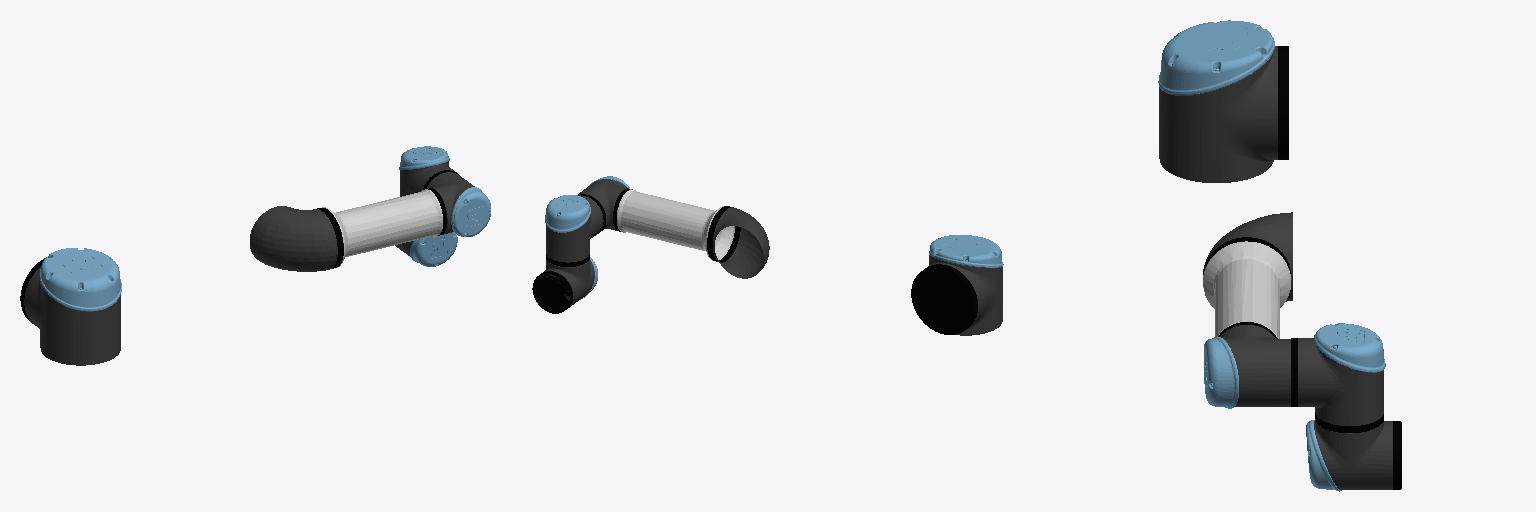
The robot description file, URDF, robot "ur16e":
<?xml version='1.0' encoding='utf-8'?>
<robot name="ur16e">
  
  
  
  <link name="world" />
  <ros2_control name="ur16e" type="system">
    <hardware>
      <plugin>ur_robot_driver/URPositionHardwareInterface</plugin>
      <param name="robot_ip">0.0.0.0</param>
      <param name="script_filename" />
      <param name="output_recipe_filename" />
      <param name="input_recipe_filename" />
      <param name="headless_mode">False</param>
      <param name="reverse_port">50001</param>
      <param name="script_sender_port">50002</param>
      <param name="reverse_ip">0.0.0.0</param>
      <param name="script_command_port">50004</param>
      <param name="trajectory_port">50003</param>
      <param name="tf_prefix" />
      <param name="non_blocking_read">False</param>
      <param name="servoj_gain">2000</param>
      <param name="servoj_lookahead_time">0.03</param>
      <param name="use_tool_communication">False</param>
      <param name="kinematics/hash">calib_1935737212149401527</param>
      <param name="tool_voltage">0</param>
      <param name="tool_parity">0</param>
      <param name="tool_baud_rate">115200</param>
      <param name="tool_stop_bits">1</param>
      <param name="tool_rx_idle_chars">1.5</param>
      <param name="tool_tx_idle_chars">3.5</param>
      <param name="tool_device_name">/tmp/ttyUR</param>
      <param name="tool_tcp_port">54321</param>
      <param name="keep_alive_count">2</param>
    </hardware>
    <joint name="shoulder_pan_joint">
      <command_interface name="position">
        <param name="min">{-2*pi}</param>
        <param name="max">{2*pi}</param>
      </command_interface>
      <command_interface name="velocity">
        <param name="min">-3.15</param>
        <param name="max">3.15</param>
      </command_interface>
      <state_interface name="position">
        
        <param name="initial_value">0.0</param>
      </state_interface>
      <state_interface name="velocity">
        <param name="initial_value">0.0</param>
      </state_interface>
      <state_interface name="effort">
        <param name="initial_value">0.0</param>
      </state_interface>
    </joint>
    <joint name="shoulder_lift_joint">
      <command_interface name="position">
        <param name="min">{-2*pi}</param>
        <param name="max">{2*pi}</param>
      </command_interface>
      <command_interface name="velocity">
        <param name="min">-3.15</param>
        <param name="max">3.15</param>
      </command_interface>
      <state_interface name="position">
        
        <param name="initial_value">-1.57</param>
      </state_interface>
      <state_interface name="velocity">
        <param name="initial_value">0.0</param>
      </state_interface>
      <state_interface name="effort">
        <param name="initial_value">0.0</param>
      </state_interface>
    </joint>
    <joint name="elbow_joint">
      <command_interface name="position">
        <param name="min">{-pi}</param>
        <param name="max">{pi}</param>
      </command_interface>
      <command_interface name="velocity">
        <param name="min">-3.15</param>
        <param name="max">3.15</param>
      </command_interface>
      <state_interface name="position">
        
        <param name="initial_value">0.0</param>
      </state_interface>
      <state_interface name="velocity">
        <param name="initial_value">0.0</param>
      </state_interface>
      <state_interface name="effort">
        <param name="initial_value">0.0</param>
      </state_interface>
    </joint>
    <joint name="wrist_1_joint">
      <command_interface name="position">
        <param name="min">{-2*pi}</param>
        <param name="max">{2*pi}</param>
      </command_interface>
      <command_interface name="velocity">
        <param name="min">-3.2</param>
        <param name="max">3.2</param>
      </command_interface>
      <state_interface name="position">
        
        <param name="initial_value">-1.57</param>
      </state_interface>
      <state_interface name="velocity">
        <param name="initial_value">0.0</param>
      </state_interface>
      <state_interface name="effort">
        <param name="initial_value">0.0</param>
      </state_interface>
    </joint>
    <joint name="wrist_2_joint">
      <command_interface name="position">
        <param name="min">{-2*pi}</param>
        <param name="max">{2*pi}</param>
      </command_interface>
      <command_interface name="velocity">
        <param name="min">-3.2</param>
        <param name="max">3.2</param>
      </command_interface>
      <state_interface name="position">
        
        <param name="initial_value">0.0</param>
      </state_interface>
      <state_interface name="velocity">
        <param name="initial_value">0.0</param>
      </state_interface>
      <state_interface name="effort">
        <param name="initial_value">0.0</param>
      </state_interface>
    </joint>
    <joint name="wrist_3_joint">
      <command_interface name="position">
        <param name="min">{-2*pi}</param>
        <param name="max">{2*pi}</param>
      </command_interface>
      <command_interface name="velocity">
        <param name="min">-3.2</param>
        <param name="max">3.2</param>
      </command_interface>
      <state_interface name="position">
        
        <param name="initial_value">0.0</param>
      </state_interface>
      <state_interface name="velocity">
        <param name="initial_value">0.0</param>
      </state_interface>
      <state_interface name="effort">
        <param name="initial_value">0.0</param>
      </state_interface>
    </joint>
    <sensor name="tcp_fts_sensor">
      <state_interface name="force.x" />
      <state_interface name="force.y" />
      <state_interface name="force.z" />
      <state_interface name="torque.x" />
      <state_interface name="torque.y" />
      <state_interface name="torque.z" />
    </sensor>
    
    <gpio name="speed_scaling">
      <state_interface name="speed_scaling_factor" />
      <param name="initial_speed_scaling_factor">1</param>
      <command_interface name="target_speed_fraction_cmd" />
      <command_interface name="target_speed_fraction_async_success" />
    </gpio>
    <gpio name="gpio">
      <command_interface name="standard_digital_output_cmd_0" />
      <command_interface name="standard_digital_output_cmd_1" />
      <command_interface name="standard_digital_output_cmd_2" />
      <command_interface name="standard_digital_output_cmd_3" />
      <command_interface name="standard_digital_output_cmd_4" />
      <command_interface name="standard_digital_output_cmd_5" />
      <command_interface name="standard_digital_output_cmd_6" />
      <command_interface name="standard_digital_output_cmd_7" />
      <command_interface name="standard_digital_output_cmd_8" />
      <command_interface name="standard_digital_output_cmd_9" />
      <command_interface name="standard_digital_output_cmd_10" />
      <command_interface name="standard_digital_output_cmd_11" />
      <command_interface name="standard_digital_output_cmd_12" />
      <command_interface name="standard_digital_output_cmd_13" />
      <command_interface name="standard_digital_output_cmd_14" />
      <command_interface name="standard_digital_output_cmd_15" />
      <command_interface name="standard_digital_output_cmd_16" />
      <command_interface name="standard_digital_output_cmd_17" />
      <command_interface name="standard_analog_output_cmd_0" />
      <command_interface name="standard_analog_output_cmd_1" />
      <command_interface name="tool_voltage_cmd" />
      <command_interface name="io_async_success" />
      <state_interface name="digital_output_0" />
      <state_interface name="digital_output_1" />
      <state_interface name="digital_output_2" />
      <state_interface name="digital_output_3" />
      <state_interface name="digital_output_4" />
      <state_interface name="digital_output_5" />
      <state_interface name="digital_output_6" />
      <state_interface name="digital_output_7" />
      <state_interface name="digital_output_8" />
      <state_interface name="digital_output_9" />
      <state_interface name="digital_output_10" />
      <state_interface name="digital_output_11" />
      <state_interface name="digital_output_12" />
      <state_interface name="digital_output_13" />
      <state_interface name="digital_output_14" />
      <state_interface name="digital_output_15" />
      <state_interface name="digital_output_16" />
      <state_interface name="digital_output_17" />
      <state_interface name="digital_input_0" />
      <state_interface name="digital_input_1" />
      <state_interface name="digital_input_2" />
      <state_interface name="digital_input_3" />
      <state_interface name="digital_input_4" />
      <state_interface name="digital_input_5" />
      <state_interface name="digital_input_6" />
      <state_interface name="digital_input_7" />
      <state_interface name="digital_input_8" />
      <state_interface name="digital_input_9" />
      <state_interface name="digital_input_10" />
      <state_interface name="digital_input_11" />
      <state_interface name="digital_input_12" />
      <state_interface name="digital_input_13" />
      <state_interface name="digital_input_14" />
      <state_interface name="digital_input_15" />
      <state_interface name="digital_input_16" />
      <state_interface name="digital_input_17" />
      <state_interface name="standard_analog_output_0" />
      <state_interface name="standard_analog_output_1" />
      <state_interface name="standard_analog_input_0" />
      <state_interface name="standard_analog_input_1" />
      <state_interface name="analog_io_type_0" />
      <state_interface name="analog_io_type_1" />
      <state_interface name="analog_io_type_2" />
      <state_interface name="analog_io_type_3" />
      <state_interface name="tool_mode" />
      <state_interface name="tool_output_voltage" />
      <state_interface name="tool_output_current" />
      <state_interface name="tool_temperature" />
      <state_interface name="tool_analog_input_0" />
      <state_interface name="tool_analog_input_1" />
      <state_interface name="tool_analog_input_type_0" />
      <state_interface name="tool_analog_input_type_1" />
      <state_interface name="robot_mode" />
      <state_interface name="robot_status_bit_0" />
      <state_interface name="robot_status_bit_1" />
      <state_interface name="robot_status_bit_2" />
      <state_interface name="robot_status_bit_3" />
      <state_interface name="safety_mode" />
      <state_interface name="safety_status_bit_0" />
      <state_interface name="safety_status_bit_1" />
      <state_interface name="safety_status_bit_2" />
      <state_interface name="safety_status_bit_3" />
      <state_interface name="safety_status_bit_4" />
      <state_interface name="safety_status_bit_5" />
      <state_interface name="safety_status_bit_6" />
      <state_interface name="safety_status_bit_7" />
      <state_interface name="safety_status_bit_8" />
      <state_interface name="safety_status_bit_9" />
      <state_interface name="safety_status_bit_10" />
      <state_interface name="program_running" />
    </gpio>
    <gpio name="payload">
      <command_interface name="mass" />
      <command_interface name="cog.x" />
      <command_interface name="cog.y" />
      <command_interface name="cog.z" />
      <command_interface name="payload_async_success" />
    </gpio>
    <gpio name="resend_robot_program">
      <command_interface name="resend_robot_program_cmd" />
      <command_interface name="resend_robot_program_async_success" />
    </gpio>
    <gpio name="hand_back_control">
      <command_interface name="hand_back_control_cmd" />
      <command_interface name="hand_back_control_async_success" />
    </gpio>
    <gpio name="zero_ftsensor">
      <command_interface name="zero_ftsensor_cmd" />
      <command_interface name="zero_ftsensor_async_success" />
    </gpio>
    <gpio name="force_mode">
      <command_interface name="task_frame_x" />
      <command_interface name="task_frame_y" />
      <command_interface name="task_frame_z" />
      <command_interface name="task_frame_rx" />
      <command_interface name="task_frame_ry" />
      <command_interface name="task_frame_rz" />
      <command_interface name="selection_vector_x" />
      <command_interface name="selection_vector_y" />
      <command_interface name="selection_vector_z" />
      <command_interface name="selection_vector_rx" />
      <command_interface name="selection_vector_ry" />
      <command_interface name="selection_vector_rz" />
      <command_interface name="wrench_x" />
      <command_interface name="wrench_y" />
      <command_interface name="wrench_z" />
      <command_interface name="wrench_rx" />
      <command_interface name="wrench_ry" />
      <command_interface name="wrench_rz" />
      <command_interface name="limits_x" />
      <command_interface name="limits_y" />
      <command_interface name="limits_z" />
      <command_interface name="limits_rx" />
      <command_interface name="limits_ry" />
      <command_interface name="limits_rz" />
      <command_interface name="type" />
      <command_interface name="disable_cmd" />
      <command_interface name="force_mode_async_success" />
      <command_interface name="damping" />
      <command_interface name="gain_scaling" />
    </gpio>
    <gpio name="system_interface">
      <state_interface name="initialized" />
    </gpio>
  </ros2_control>
  
  
  
  
  <link name="base_link" />
  <link name="base_link_inertia">
    <visual>
      <origin rpy="0 0 3.141592653589793" xyz="0 0 0" />
      <geometry>
        <mesh filename="meshes/base.dae" />
      </geometry>
    </visual>
    <collision>
      <origin rpy="0 0 3.141592653589793" xyz="0 0 0" />
      <geometry>
        <mesh filename="meshes/base.stl" />
      </geometry>
    </collision>
    <inertial>
      <mass value="4.0" />
      <origin rpy="0 0 0" xyz="0 0 0" />
      <inertia ixx="0.0061063308908" ixy="0.0" ixz="0.0" iyy="0.0061063308908" iyz="0.0" izz="0.01125" />
    </inertial>
  </link>
  <link name="shoulder_link">
    <visual>
      <origin rpy="0 0 3.141592653589793" xyz="0 0 0" />
      <geometry>
        <mesh filename="meshes/shoulder.dae" />
      </geometry>
    </visual>
    <collision>
      <origin rpy="0 0 3.141592653589793" xyz="0 0 0" />
      <geometry>
        <mesh filename="meshes/shoulder.stl" />
      </geometry>
    </collision>
    <inertial>
      <mass value="7.369" />
      <origin rpy="0 0 0" xyz="0 0 0" />
      <inertia ixx="0.029819260655624295" ixy="0.0" ixz="0.0" iyy="0.029819260655624295" iyz="0.0" izz="0.020725312499999995" />
    </inertial>
  </link>
  <link name="upper_arm_link">
    <visual>
      <origin rpy="1.5707963267948966 0 -1.5707963267948966" xyz="0 0 0.176" />
      <geometry>
        <mesh filename="meshes/upperarm.dae" />
      </geometry>
    </visual>
    <collision>
      <origin rpy="1.5707963267948966 0 -1.5707963267948966" xyz="0 0 0.176" />
      <geometry>
        <mesh filename="meshes/upperarm.stl" />
      </geometry>
    </collision>
    <inertial>
      <mass value="10.45" />
      <origin rpy="0 1.5707963267948966 0" xyz="-0.2392 0.0 0.175" />
      <inertia ixx="0.21399985623335657" ixy="0.0" ixz="0.0" iyy="0.21399985623335657" iyz="0.0" izz="0.029390624999999997" />
    </inertial>
  </link>
  <link name="forearm_link">
    <visual>
      <origin rpy="1.5707963267948966 0 -1.5707963267948966" xyz="0 0 0.04" />
      <geometry>
        <mesh filename="meshes/forearm.dae" />
      </geometry>
    </visual>
    <collision>
      <origin rpy="1.5707963267948966 0 -1.5707963267948966" xyz="0 0 0.04" />
      <geometry>
        <mesh filename="meshes/forearm.stl" />
      </geometry>
    </collision>
    <inertial>
      <mass value="4.321" />
      <origin rpy="0 1.5707963267948966 0" xyz="-0.18 0.0 0.04" />
      <inertia ixx="0.052743185152717496" ixy="0.0" ixz="0.0" iyy="0.052743185152717496" iyz="0.0" izz="0.012152812499999997" />
    </inertial>
  </link>
  <link name="wrist_1_link">
    <visual>
      <origin rpy="1.5707963267948966 0 0" xyz="0 0 -0.135" />
      <geometry>
        <mesh filename="meshes/wrist1.dae" />
      </geometry>
    </visual>
    <collision>
      <origin rpy="1.5707963267948966 0 0" xyz="0 0 -0.135" />
      <geometry>
        <mesh filename="meshes/wrist1.stl" />
      </geometry>
    </collision>
    <inertial>
      <mass value="2.18" />
      <origin rpy="0 0 0" xyz="0 0 0" />
      <inertia ixx="0.0056816227273499996" ixy="0.0" ixz="0.0" iyy="0.0056816227273499996" iyz="0.0" izz="0.00613125" />
    </inertial>
  </link>
  <link name="wrist_2_link">
    <visual>
      <origin rpy="0 0 0" xyz="0 0 -0.12" />
      <geometry>
        <mesh filename="meshes/wrist2.dae" />
      </geometry>
    </visual>
    <collision>
      <origin rpy="0 0 0" xyz="0 0 -0.12" />
      <geometry>
        <mesh filename="meshes/wrist2.stl" />
      </geometry>
    </collision>
    <inertial>
      <mass value="2.033" />
      <origin rpy="0 0 0" xyz="0 0 0" />
      <inertia ixx="0.0052985041305975" ixy="0.0" ixz="0.0" iyy="0.0052985041305975" iyz="0.0" izz="0.0057178125" />
    </inertial>
  </link>
  <link name="wrist_3_link">
    <visual>
      <origin rpy="1.5707963267948966 0 0" xyz="0 0 -0.1168" />
      <geometry>
        <mesh filename="meshes/wrist3.dae" />
      </geometry>
    </visual>
    <collision>
      <origin rpy="1.5707963267948966 0 0" xyz="0 0 -0.1168" />
      <geometry>
        <mesh filename="meshes/wrist3.stl" />
      </geometry>
    </collision>
    <inertial>
      <mass value="0.907" />
      <origin rpy="0 0 0" xyz="0.0 0.0 -0.025" />
      <inertia ixx="0.0006481268240825001" ixy="0.0" ixz="0.0" iyy="0.0006481268240825001" iyz="0.0" izz="0.0009183374999999999" />
    </inertial>
  </link>
  
  <joint name="base_joint" type="fixed">
    <origin rpy="0 0 0" xyz="0 0 0" />
    <parent link="world" />
    <child link="base_link" />
  </joint>
  
  <joint name="base_link-base_link_inertia" type="fixed">
    <parent link="base_link" />
    <child link="base_link_inertia" />
    
    <origin rpy="0 0 3.141592653589793" xyz="0 0 0" />
  </joint>
  <joint name="shoulder_pan_joint" type="revolute">
    <parent link="base_link_inertia" />
    <child link="shoulder_link" />
    <origin rpy="0 0 0" xyz="0 0 0.1807" />
    <axis xyz="0 0 1" />
    <limit effort="330.0" lower="-6.283185307179586" upper="6.283185307179586" velocity="2.0943951023931953" />
    <dynamics damping="0" friction="0" />
  </joint>
  <joint name="shoulder_lift_joint" type="revolute">
    <parent link="shoulder_link" />
    <child link="upper_arm_link" />
    <origin rpy="1.570796327 0 0" xyz="0 0 0" />
    <axis xyz="0 0 1" />
    <limit effort="330.0" lower="-6.283185307179586" upper="6.283185307179586" velocity="2.0943951023931953" />
    <dynamics damping="0" friction="0" />
  </joint>
  <joint name="elbow_joint" type="revolute">
    <parent link="upper_arm_link" />
    <child link="forearm_link" />
    <origin rpy="0 0 0" xyz="-0.4784 0 0" />
    <axis xyz="0 0 1" />
    <limit effort="150.0" lower="-3.141592653589793" upper="3.141592653589793" velocity="3.141592653589793" />
    <dynamics damping="0" friction="0" />
  </joint>
  <joint name="wrist_1_joint" type="revolute">
    <parent link="forearm_link" />
    <child link="wrist_1_link" />
    <origin rpy="0 0 0" xyz="-0.36 0 0.17415" />
    <axis xyz="0 0 1" />
    <limit effort="56.0" lower="-6.283185307179586" upper="6.283185307179586" velocity="3.141592653589793" />
    <dynamics damping="0" friction="0" />
  </joint>
  <joint name="wrist_2_joint" type="revolute">
    <parent link="wrist_1_link" />
    <child link="wrist_2_link" />
    <origin rpy="1.570796327 0 0" xyz="0 -0.11985 -2.458164590756244e-11" />
    <axis xyz="0 0 1" />
    <limit effort="56.0" lower="-6.283185307179586" upper="6.283185307179586" velocity="3.141592653589793" />
    <dynamics damping="0" friction="0" />
  </joint>
  <joint name="wrist_3_joint" type="revolute">
    <parent link="wrist_2_link" />
    <child link="wrist_3_link" />
    <origin rpy="1.570796326589793 3.141592653589793 3.141592653589793" xyz="0 0.11655 -2.390480459346185e-11" />
    <axis xyz="0 0 1" />
    <limit effort="56.0" lower="-6.283185307179586" upper="6.283185307179586" velocity="3.141592653589793" />
    <dynamics damping="0" friction="0" />
  </joint>
  <link name="ft_frame" />
  <joint name="wrist_3_link-ft_frame" type="fixed">
    <parent link="wrist_3_link" />
    <child link="ft_frame" />
    <origin rpy="3.141592653589793 0 0" xyz="0 0 0" />
  </joint>
  
  <link name="base" />
  <joint name="base_link-base_fixed_joint" type="fixed">
    
    <origin rpy="0 0 3.141592653589793" xyz="0 0 0" />
    <parent link="base_link" />
    <child link="base" />
  </joint>
  
  <link name="flange" />
  <joint name="wrist_3-flange" type="fixed">
    <parent link="wrist_3_link" />
    <child link="flange" />
    <origin rpy="0 -1.5707963267948966 -1.5707963267948966" xyz="0 0 0" />
  </joint>
  
  <link name="tool0" />
  <joint name="flange-tool0" type="fixed">
    
    <origin rpy="1.5707963267948966 0 1.5707963267948966" xyz="0 0 0" />
    <parent link="flange" />
    <child link="tool0" />
  </joint>
</robot>

--- Render facts (derived) ---
Views: 3 orthographic renders of the robot side by side, from view 1: azimuth 30°, elevation 25°; view 2: azimuth 150°, elevation 25°; view 3: azimuth 270°, elevation 25°.
Model ur16e with 13 links and 12 joints (6 revolute, 6 fixed), rooted at world, posed every joint at zero.
Links seen in each view (by area): view 1: forearm_link, shoulder_link, wrist_1_link, wrist_2_link; view 2: forearm_link, shoulder_link, wrist_1_link, wrist_2_link; view 3: shoulder_link, forearm_link, wrist_1_link, wrist_2_link.
Boxes of the visible links, bbox=[...] form: forearm_link: bbox=[250, 170, 490, 271]; shoulder_link: bbox=[20, 248, 121, 365]; wrist_1_link: bbox=[399, 146, 458, 196]; wrist_2_link: bbox=[395, 232, 457, 266]; forearm_link: bbox=[578, 176, 769, 278]; shoulder_link: bbox=[911, 235, 1003, 335]; wrist_1_link: bbox=[545, 195, 603, 266]; wrist_2_link: bbox=[532, 257, 597, 313]; shoulder_link: bbox=[1158, 20, 1288, 182]; forearm_link: bbox=[1203, 212, 1297, 408]; wrist_1_link: bbox=[1298, 323, 1385, 432]; wrist_2_link: bbox=[1306, 419, 1401, 491].
Size in the robot's own frame: 0.9618 by 0.3185 by 0.2602 metres.
4 mesh visuals loaded from 7 distinct referenced files (4 Collada DAE); not drawn: 2 (reference not matched to a file when rendering), 1 (file found but could not be loaded).
